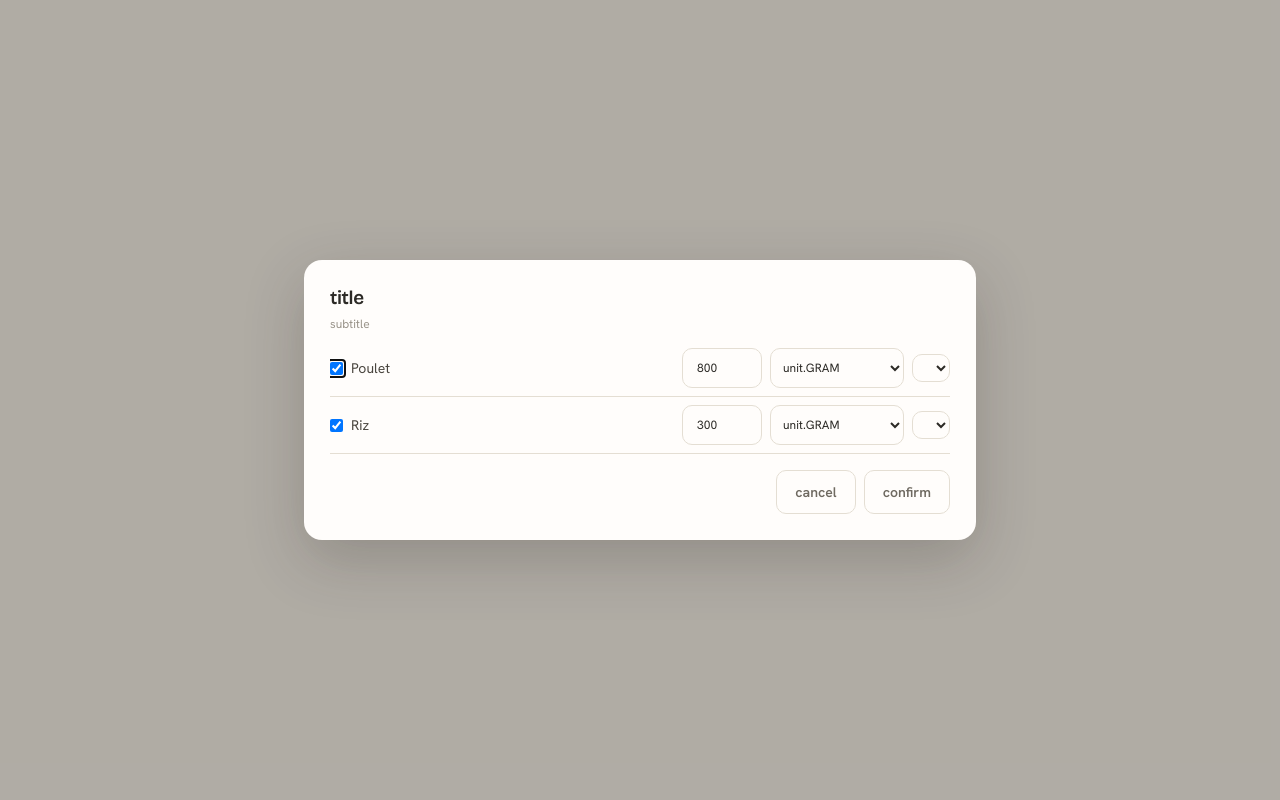
Scenario: ExportToShoppingListModal › shows an error and does not submit when a quantity draft is not a positive number
Expected: the text "Poulet" is shown, [351,359,390,377]
Replace the text in the number field showing "800" in the row of "Poulet" with "-1" at (722, 368), box [682,348,762,388]
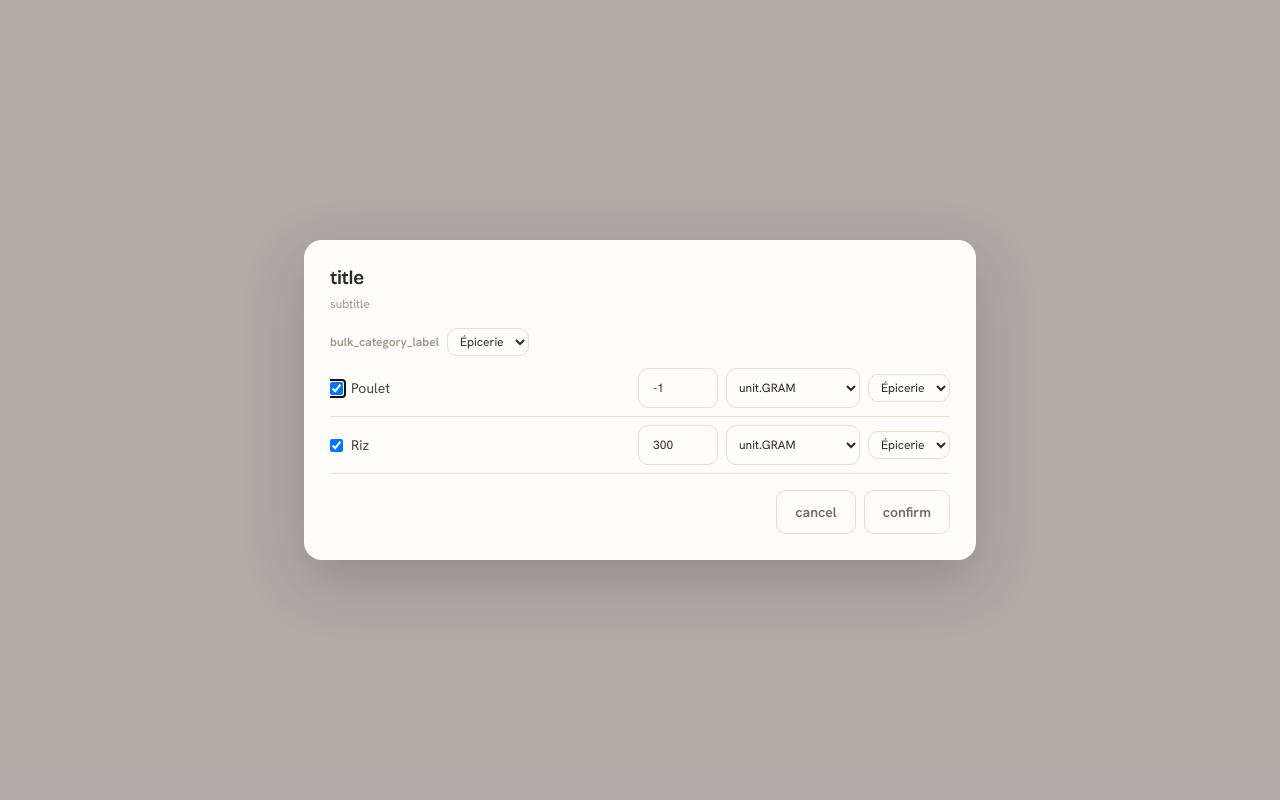
Click the button "confirm" at (907, 512), box [864,490,950,534]
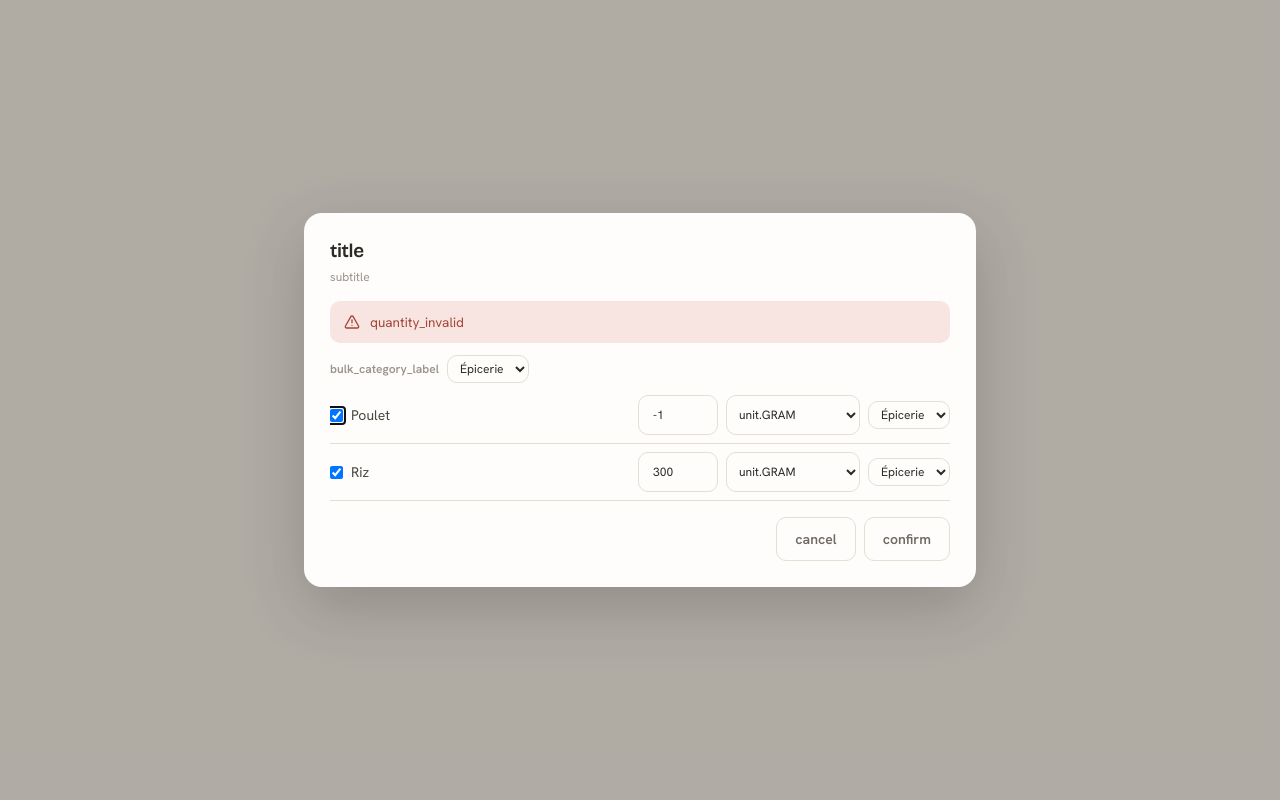
Now the text "quantity_invalid" is shown, box [370,313,464,331]
